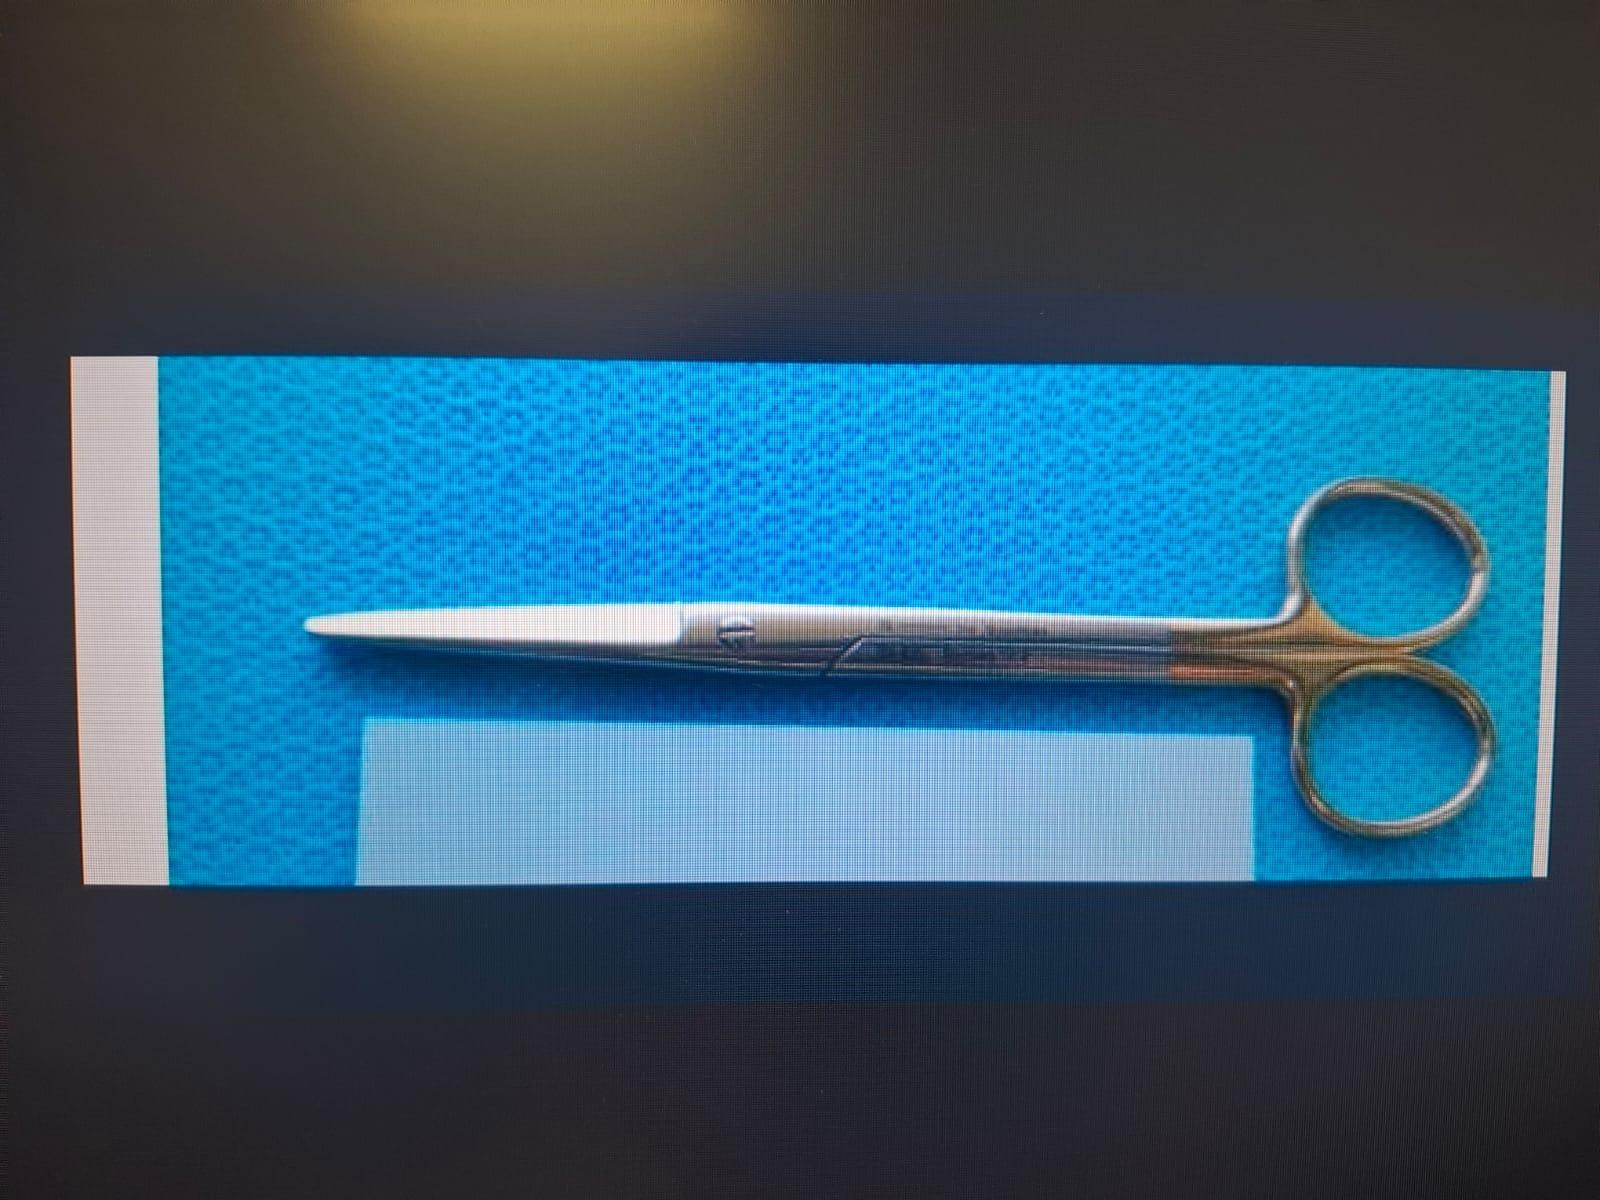Straight Mayo: (296, 463, 1511, 850)
